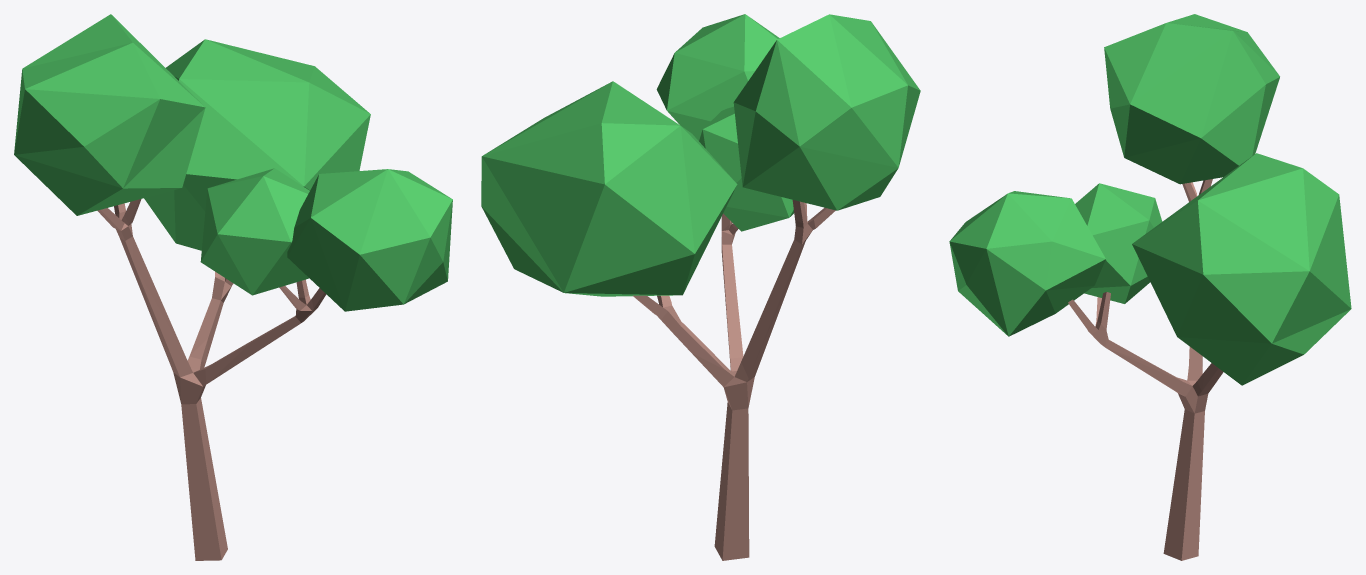
File: small_tree_2.fbx
3 renders of one model, left to right at view 1: azimuth 30°, elevation 25°; view 2: azimuth 150°, elevation 25°; view 3: azimuth 270°, elevation 25°, orthographic. The views are drawn at different scales.
Visible parts, largest first — view 1: Icosphere, Icosphere.001, Icosphere.002, wood, Icosphere.003; view 2: Icosphere.001, Icosphere, wood, Icosphere.002, Icosphere.003; view 3: Icosphere.001, Icosphere, Icosphere.002, wood, Icosphere.003.
Boxes of the visible parts, <box> form: Icosphere: <box>14,14,205,215</box>; Icosphere.001: <box>144,39,370,250</box>; Icosphere.002: <box>287,169,452,311</box>; wood: <box>97,199,326,560</box>; Icosphere.003: <box>200,168,309,295</box>; Icosphere.001: <box>481,81,737,296</box>; Icosphere: <box>733,14,920,210</box>; wood: <box>633,200,835,560</box>; Icosphere.002: <box>656,14,779,140</box>; Icosphere.003: <box>699,106,794,231</box>; Icosphere.001: <box>1132,153,1351,385</box>; Icosphere: <box>1104,14,1279,184</box>; Icosphere.002: <box>949,191,1105,336</box>; wood: <box>1068,179,1223,560</box>; Icosphere.003: <box>1075,183,1162,303</box>.
Size of the model in its own units: 149 by 147 by 203.
